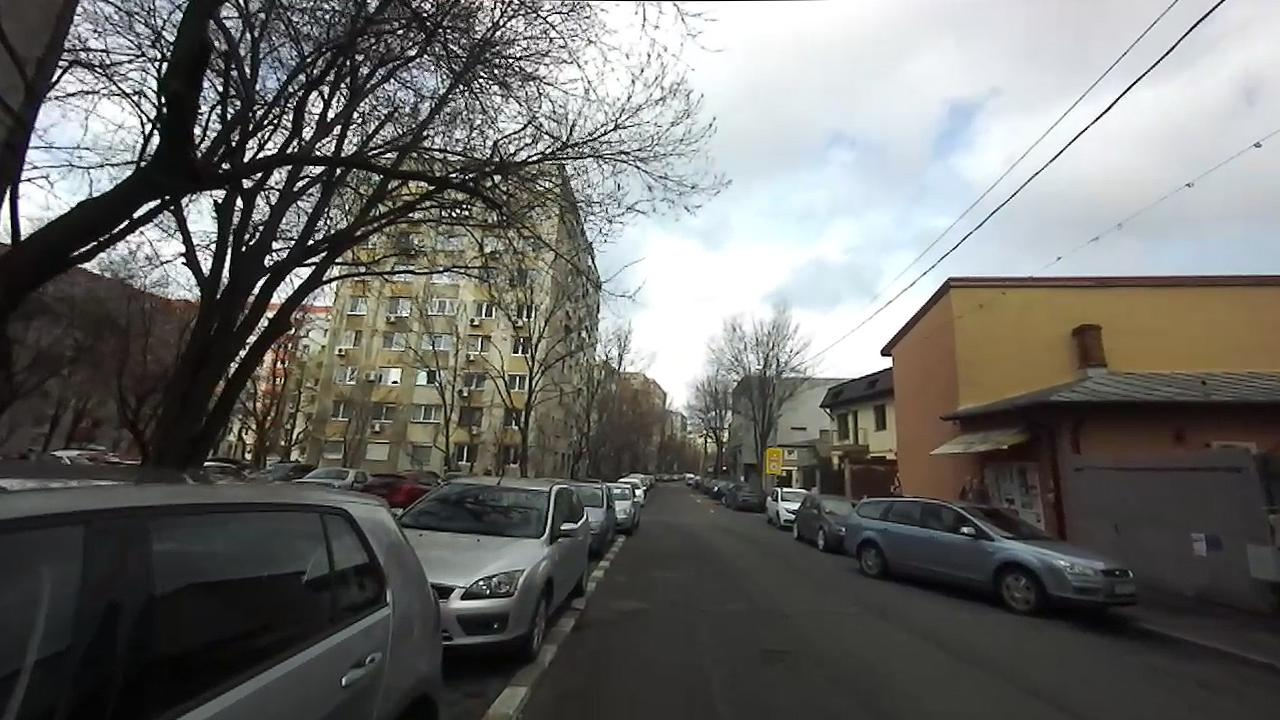pothole: (759, 640, 803, 673)
